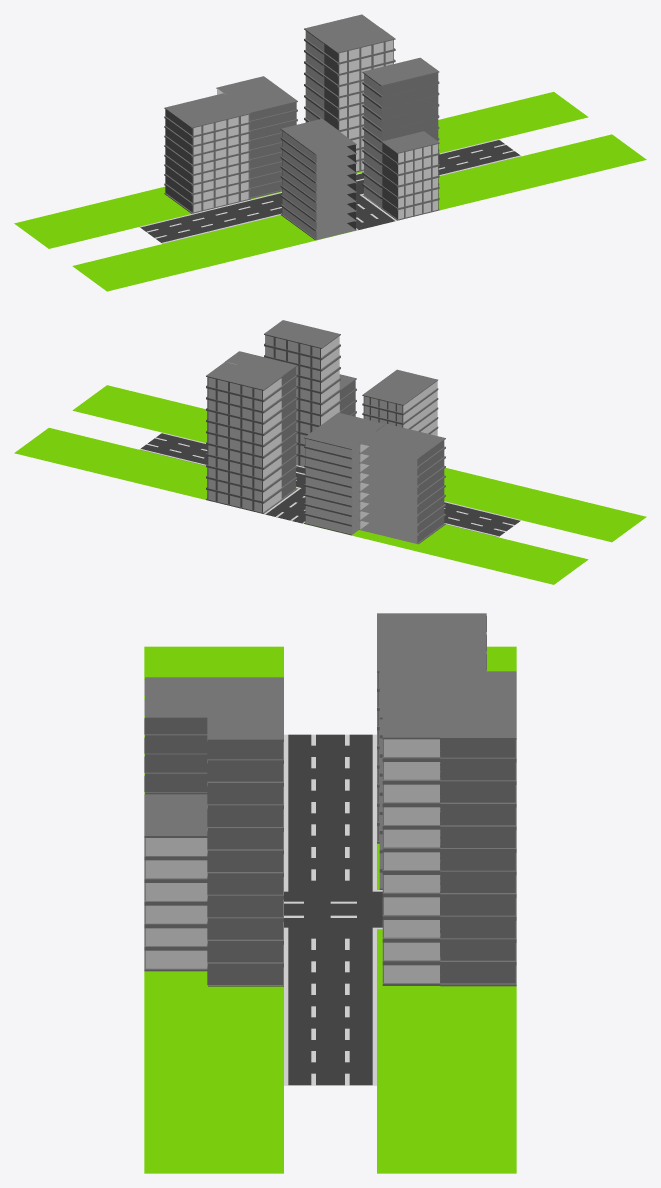
File: Skyscapers.Wall3.fbx
3 views of the same model, one above another, from view 1: azimuth 30°, elevation 25°; view 2: azimuth 150°, elevation 25°; view 3: azimuth 270°, elevation 25° (orthographic). The views are drawn at different scales.
Visible parts, largest first — view 1: Cube.007, Plane.011, StreetA.005; view 2: Cube.007, Plane.011, StreetA.005; view 3: Plane.011, Cube.007, StreetA.005.
Part boxes in pixels (x1,y1,x2,y2): Cube.007: [14, 76, 356, 291]; Plane.011: [304, 14, 646, 220]; StreetA.005: [356, 193, 396, 230]; Cube.007: [304, 369, 646, 584]; Plane.011: [14, 320, 356, 513]; StreetA.005: [264, 486, 305, 523]; Plane.011: [144, 681, 516, 1173]; Cube.007: [144, 613, 516, 891]; StreetA.005: [284, 890, 382, 929].
Size of the model in its own units: 6700 by 1484 by 2000.
